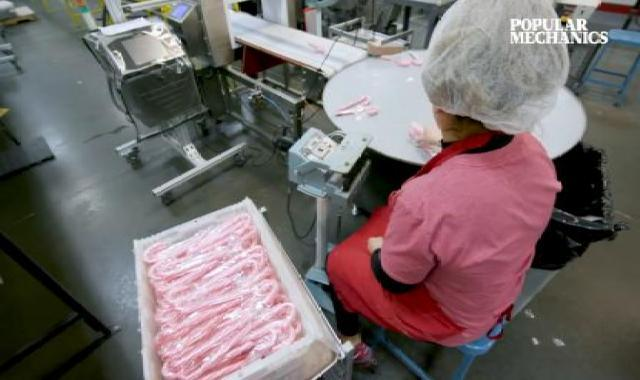hairnet: (418, 0, 570, 132)
